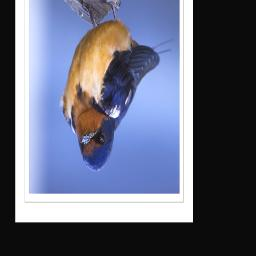Swallow: (59, 0, 175, 174)
